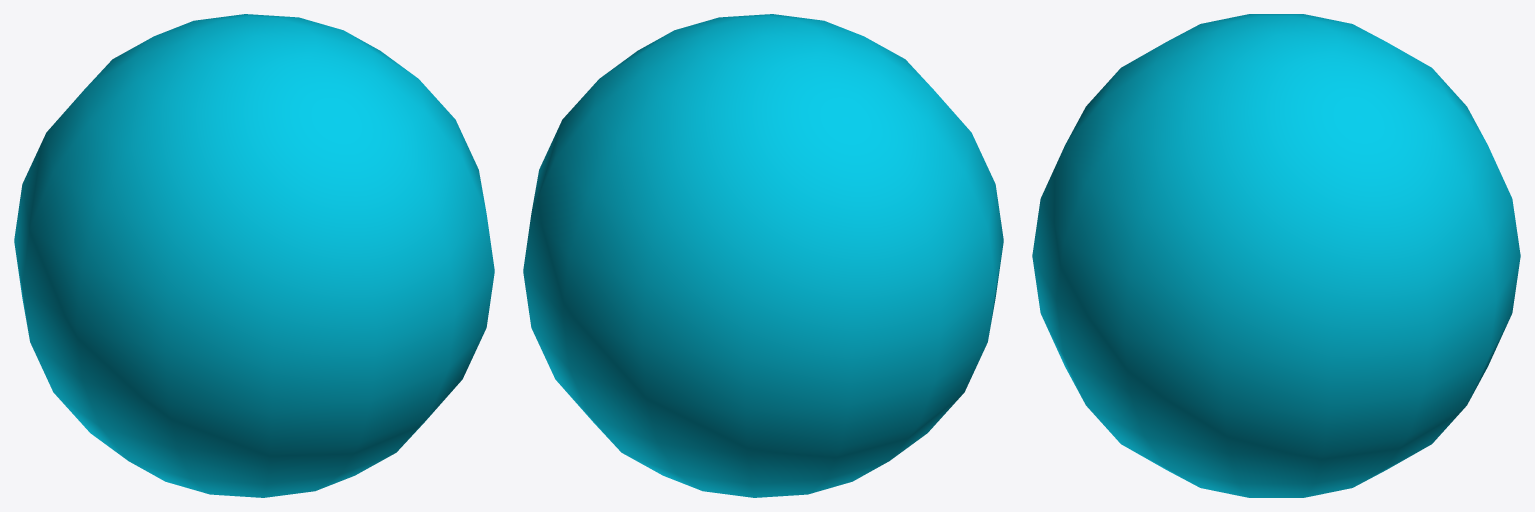
The picture shows the model from 3 angles, left to right: view 1: azimuth 30°, elevation 25°; view 2: azimuth 150°, elevation 25°; view 3: azimuth 270°, elevation 25°; orthographic projection.
Visible parts, largest first — view 1: Sphere; view 2: Sphere; view 3: Sphere.
Boxes of the visible parts, <box> form: Sphere: <box>14,14,494,497</box>; Sphere: <box>523,14,1003,497</box>; Sphere: <box>1032,14,1520,497</box>.
Size of the model in its own units: 195 by 200 by 200.
